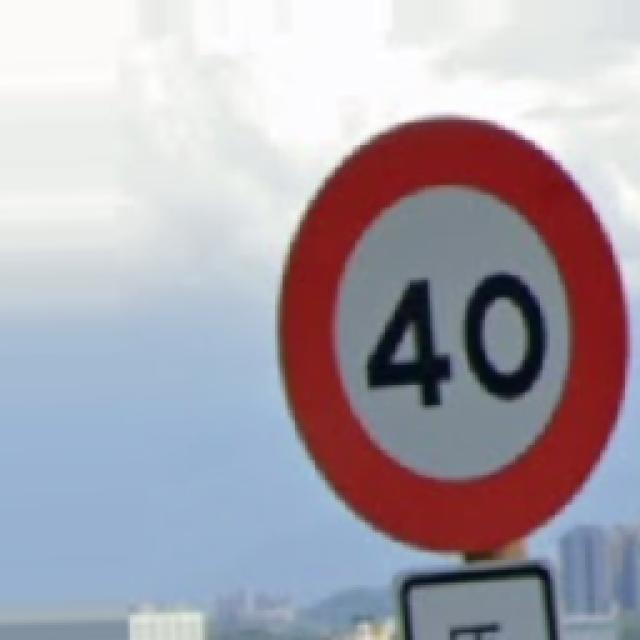Speed Limit -40-: (278, 120, 625, 548)
